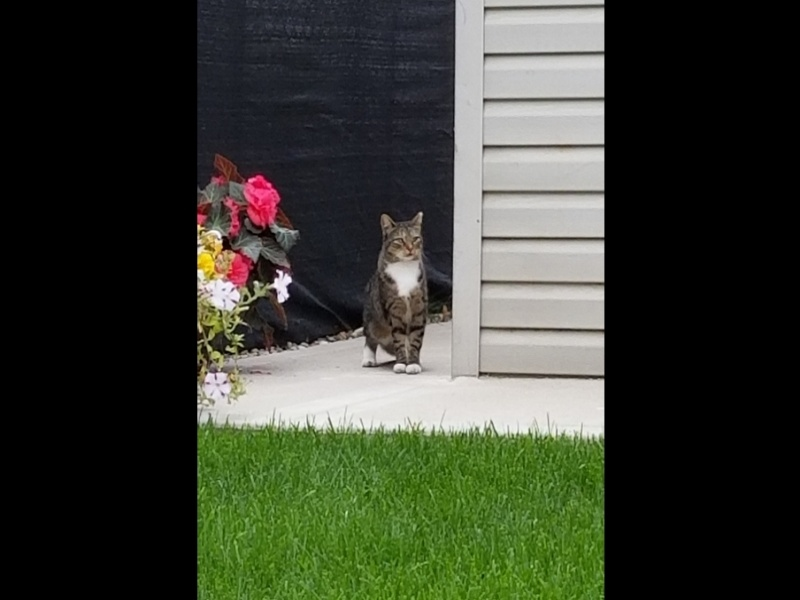cat: (362, 212, 432, 377)
